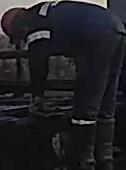gloves: (29, 89, 47, 116)
helmet: (0, 7, 27, 41)
vest: (25, 0, 125, 57)
